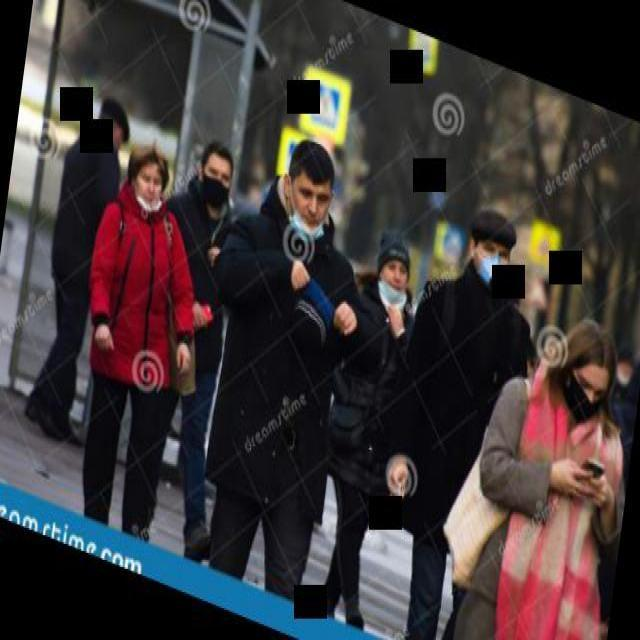hairnet: (290, 202, 326, 240), (380, 273, 409, 308), (135, 181, 163, 212)
